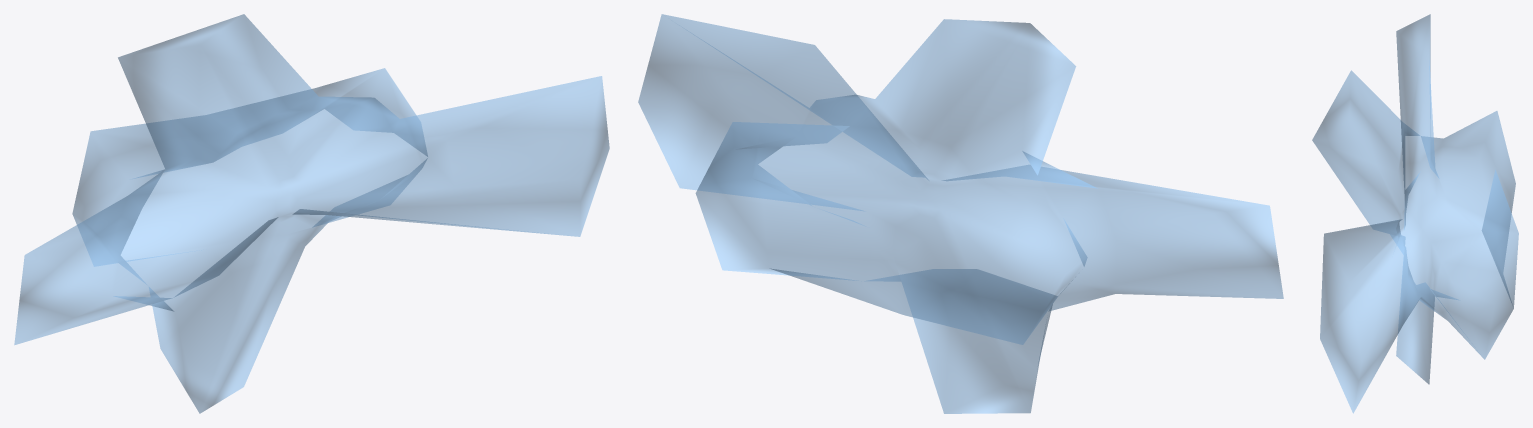
The model's file is ttechind_shield.gltf.
3 renders of one model, left to right at view 1: azimuth 30°, elevation 25°; view 2: azimuth 150°, elevation 25°; view 3: azimuth 270°, elevation 25°, orthographic. The views are drawn at different scales.
Visible parts, largest first — view 1: ttechind.shield; view 2: ttechind.shield; view 3: ttechind.shield.
Boxes of the visible parts, x1=… form: ttechind.shield: x1=14, y1=14, x2=609, y2=413; ttechind.shield: x1=638, y1=14, x2=1283, y2=413; ttechind.shield: x1=1312, y1=14, x2=1518, y2=413.
Size of the model in its own units: 35.97 by 21.27 by 12.13.
